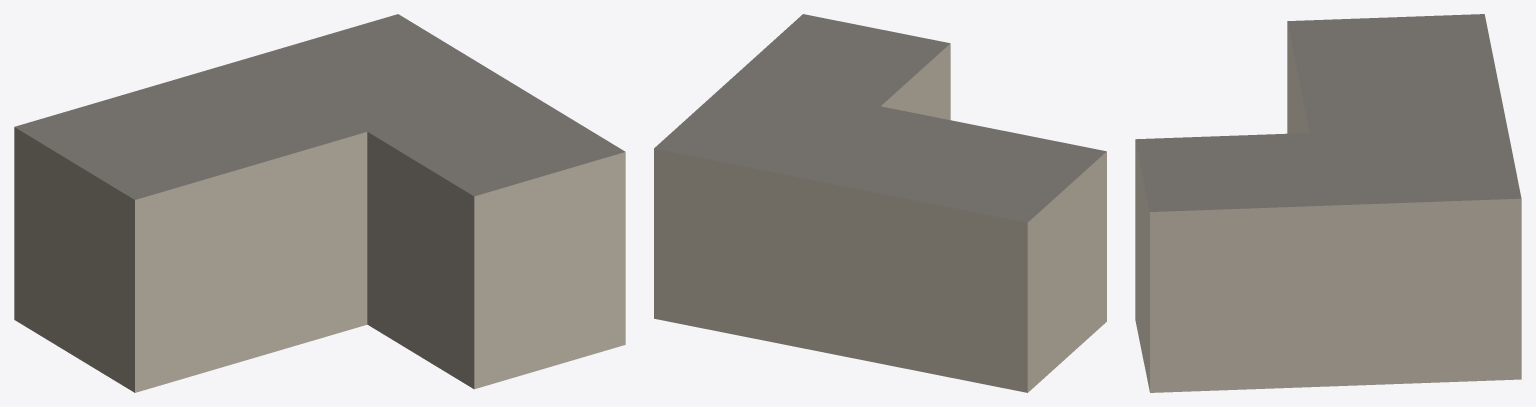
The picture shows the model from 3 angles, left to right: view 1: azimuth 30°, elevation 25°; view 2: azimuth 150°, elevation 25°; view 3: azimuth 270°, elevation 25°; orthographic projection. The views are drawn at different scales.
Parts seen in each view (by area): view 1: HP-w1318374446; view 2: HP-w1318374446; view 3: HP-w1318374446.
Boxes of the visible parts, <box> form: HP-w1318374446: <box>14,14,625,392</box>; HP-w1318374446: <box>654,14,1106,392</box>; HP-w1318374446: <box>1135,14,1521,392</box>.
Bounding box in the file's own units: 35.24 × 15 × 29.03.
